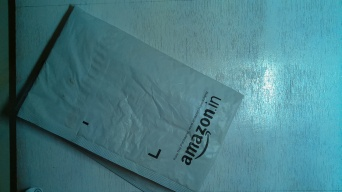a: (17, 4, 244, 186)
